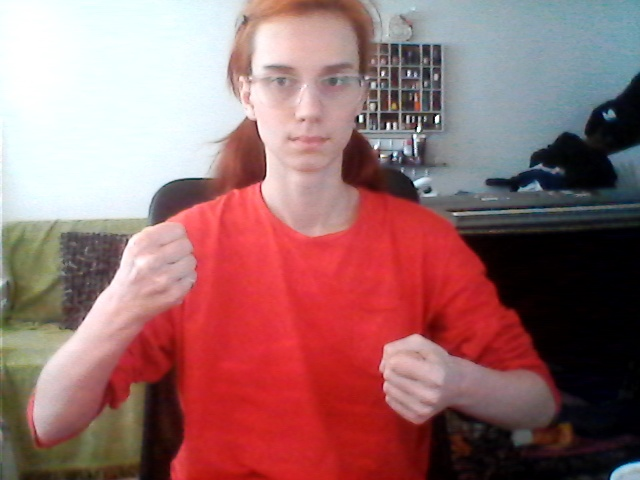auto: (110, 218, 467, 433)
